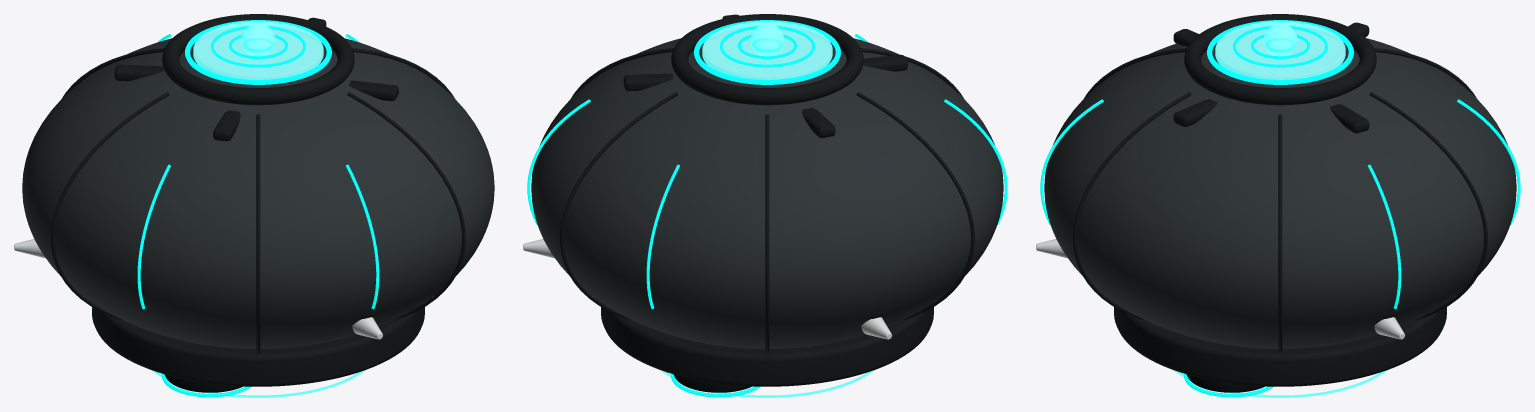
File: StickyPulseBall_BaseModel.glb
3 renders of one model, left to right at view 1: azimuth 30°, elevation 25°; view 2: azimuth 150°, elevation 25°; view 3: azimuth 270°, elevation 25°, orthographic.
Visible parts, largest first — view 1: Shell_FlattenedRoughGraphiteBody, AdhesionHousing_LowerFlattenedBase, PulseCore_DarkApertureOuterCollar, PulseCore_LargeTealGlassLens, PulseCore_TealConcentricOuterRing, ArmorSeam_RadialBoundary_03, ArmorSeam_RadialBoundary_05, ArmorSeam_RadialBoundary_04, PulseCore_BrightTealEnergyPoint, PulseCore_ConcentricPulseRing_0, PulseCore_ChunkyProtectiveCheekPlate_3, AdhesionPad_RubberMagneticFoot_1 (+9 smaller); view 2: Shell_FlattenedRoughGraphiteBody, AdhesionHousing_LowerFlattenedBase, PulseCore_DarkApertureOuterCollar, PulseCore_LargeTealGlassLens, PulseCore_TealConcentricOuterRing, ArmorSeam_RadialBoundary_01, ArmorSeam_RadialBoundary_03, ArmorSeam_RadialBoundary_02, PulseCore_BrightTealEnergyPoint, PulseCore_ConcentricPulseRing_0, PulseCore_ChunkyProtectiveCheekPlate_0, AdhesionPad_RubberMagneticFoot_0 (+10 smaller); view 3: Shell_FlattenedRoughGraphiteBody, AdhesionHousing_LowerFlattenedBase, PulseCore_DarkApertureOuterCollar, PulseCore_LargeTealGlassLens, PulseCore_TealConcentricOuterRing, ArmorSeam_RadialBoundary_05, ArmorSeam_RadialBoundary_01, ArmorSeam_RadialBoundary_00, PulseCore_BrightTealEnergyPoint, PulseCore_ChunkyProtectiveCheekPlate_3, PulseCore_ConcentricPulseRing_0, PulseCore_ChunkyProtectiveCheekPlate_0 (+9 smaller).
Part boxes in pixels (x1=…): Shell_FlattenedRoughGraphiteBody: x1=22, y1=38, x2=494, y2=348; AdhesionHousing_LowerFlattenedBase: x1=92, y1=307, x2=424, y2=386; PulseCore_DarkApertureOuterCollar: x1=162, y1=14, x2=354, y2=105; PulseCore_LargeTealGlassLens: x1=193, y1=21, x2=323, y2=79; PulseCore_TealConcentricOuterRing: x1=185, y1=20, x2=331, y2=84; ArmorSeam_RadialBoundary_03: x1=51, y1=92, x2=169, y2=319; ArmorSeam_RadialBoundary_05: x1=347, y1=92, x2=465, y2=319; ArmorSeam_RadialBoundary_04: x1=256, y1=114, x2=260, y2=353; PulseCore_BrightTealEnergyPoint: x1=241, y1=23, x2=275, y2=55; PulseCore_ConcentricPulseRing_0: x1=211, y1=26, x2=305, y2=67; PulseCore_ChunkyProtectiveCheekPlate_3: x1=348, y1=80, x2=398, y2=101; AdhesionPad_RubberMagneticFoot_1: x1=164, y1=374, x2=243, y2=392; Shell_FlattenedRoughGraphiteBody: x1=531, y1=38, x2=1003, y2=348; AdhesionHousing_LowerFlattenedBase: x1=601, y1=307, x2=933, y2=386; PulseCore_DarkApertureOuterCollar: x1=671, y1=14, x2=863, y2=105; PulseCore_LargeTealGlassLens: x1=702, y1=21, x2=832, y2=79; PulseCore_TealConcentricOuterRing: x1=694, y1=20, x2=840, y2=84; ArmorSeam_RadialBoundary_01: x1=560, y1=92, x2=678, y2=319; ArmorSeam_RadialBoundary_03: x1=856, y1=92, x2=974, y2=319; ArmorSeam_RadialBoundary_02: x1=765, y1=114, x2=769, y2=353; PulseCore_BrightTealEnergyPoint: x1=750, y1=23, x2=784, y2=55; PulseCore_ConcentricPulseRing_0: x1=720, y1=26, x2=814, y2=67; PulseCore_ChunkyProtectiveCheekPlate_0: x1=623, y1=73, x2=673, y2=90; AdhesionPad_RubberMagneticFoot_0: x1=673, y1=374, x2=752, y2=392; Shell_FlattenedRoughGraphiteBody: x1=1044, y1=38, x2=1516, y2=348; AdhesionHousing_LowerFlattenedBase: x1=1114, y1=307, x2=1446, y2=386; PulseCore_DarkApertureOuterCollar: x1=1184, y1=14, x2=1376, y2=105; PulseCore_LargeTealGlassLens: x1=1215, y1=21, x2=1345, y2=79; PulseCore_TealConcentricOuterRing: x1=1207, y1=20, x2=1353, y2=84; ArmorSeam_RadialBoundary_05: x1=1073, y1=92, x2=1191, y2=319; ArmorSeam_RadialBoundary_01: x1=1369, y1=92, x2=1487, y2=319; ArmorSeam_RadialBoundary_00: x1=1278, y1=114, x2=1282, y2=353; PulseCore_BrightTealEnergyPoint: x1=1263, y1=23, x2=1297, y2=55; PulseCore_ChunkyProtectiveCheekPlate_3: x1=1173, y1=99, x2=1217, y2=126; PulseCore_ConcentricPulseRing_0: x1=1233, y1=26, x2=1327, y2=67; PulseCore_ChunkyProtectiveCheekPlate_0: x1=1330, y1=104, x2=1369, y2=133.
Size of the model in its own units: 2.13 by 1.58 by 2.15.
